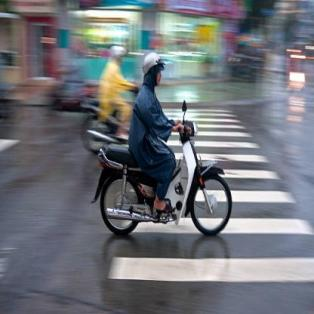Motocicleta: (95, 115, 235, 244)
